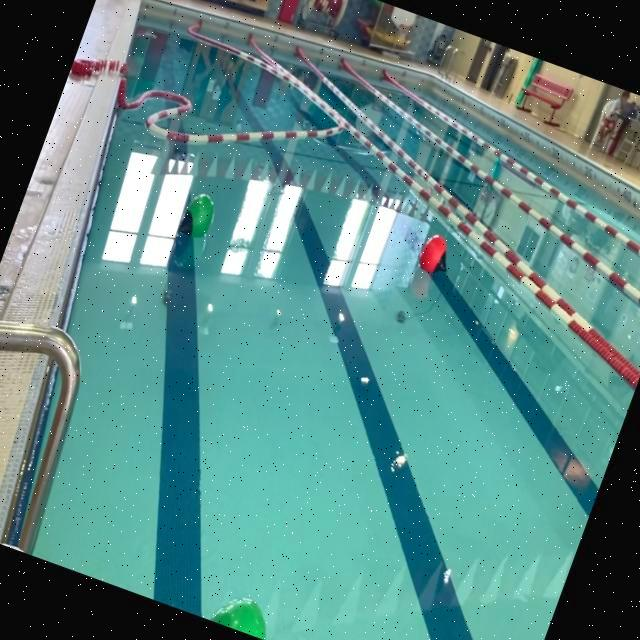buoy: (210, 589, 280, 640), (176, 188, 220, 245), (414, 229, 460, 280)
